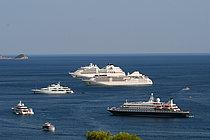Ship: (106, 95, 195, 121), (81, 62, 156, 88)
